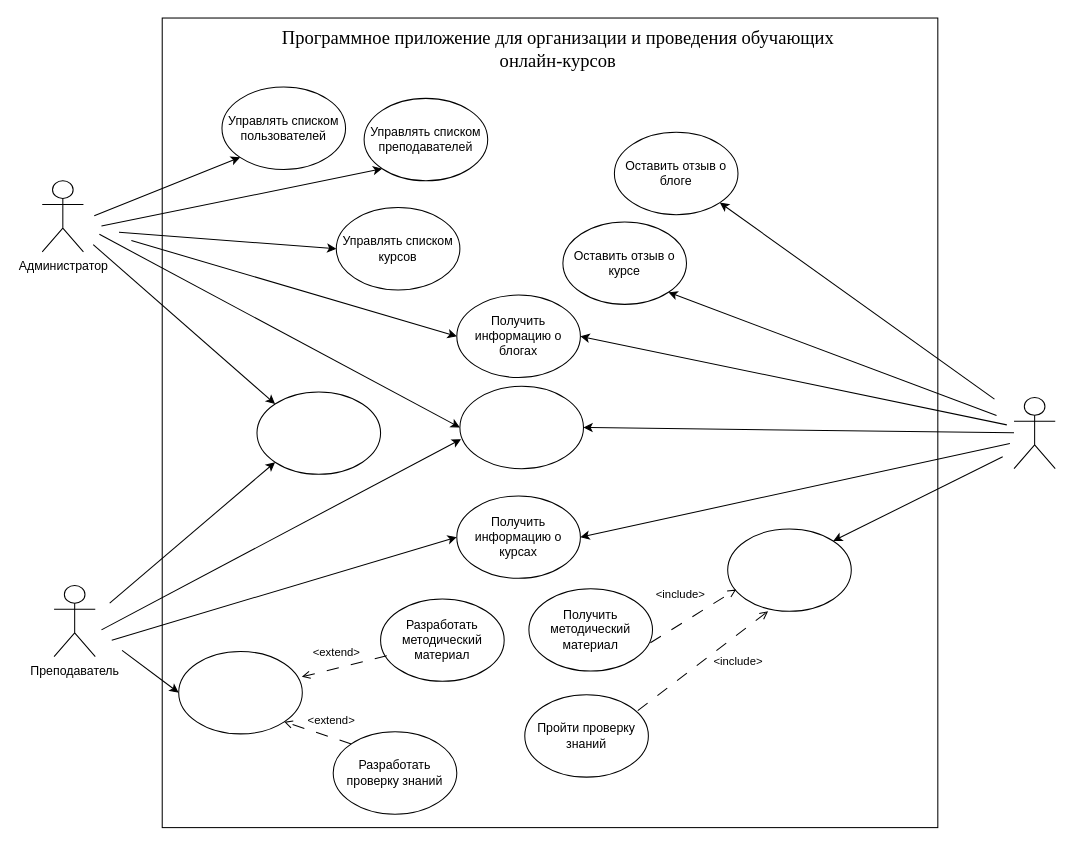
This 1092x846 diagram has some shape labels left out. Here are the shapes that lost their labels. From the top down, the centre of each, then its label:
pixel 318 432: Управлять списком блогов
pixel 521 427: Авторизоваться в системе
pixel 1034 433: Пользователь
pixel 789 569: Записаться на курс
pixel 240 692: Разработать новый курс
